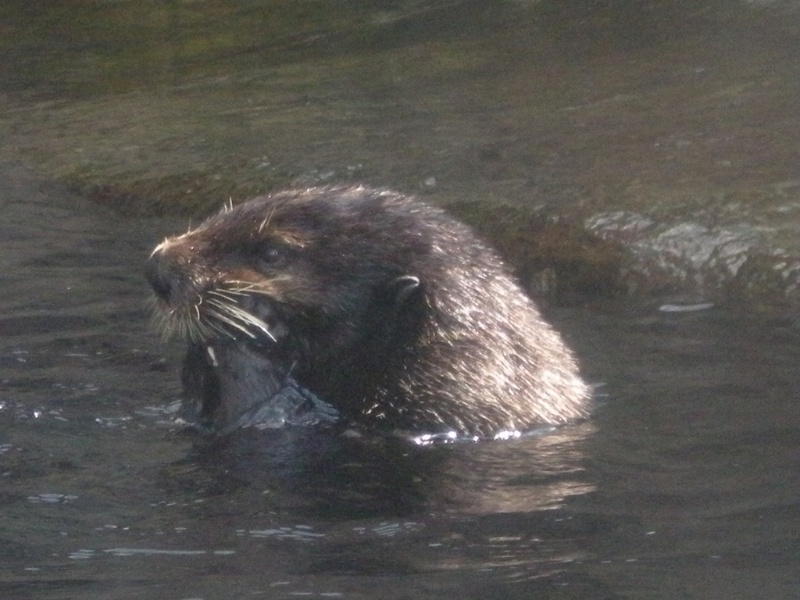minkish: (139, 178, 607, 474)
